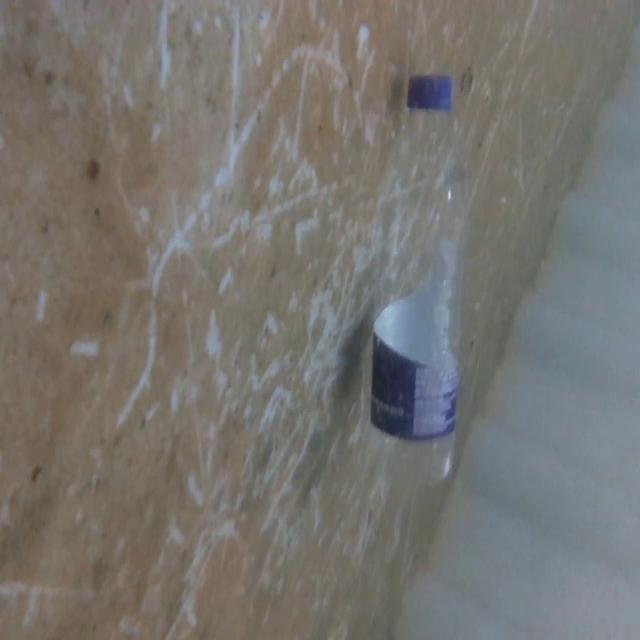plastic bottle: (362, 70, 477, 492)
